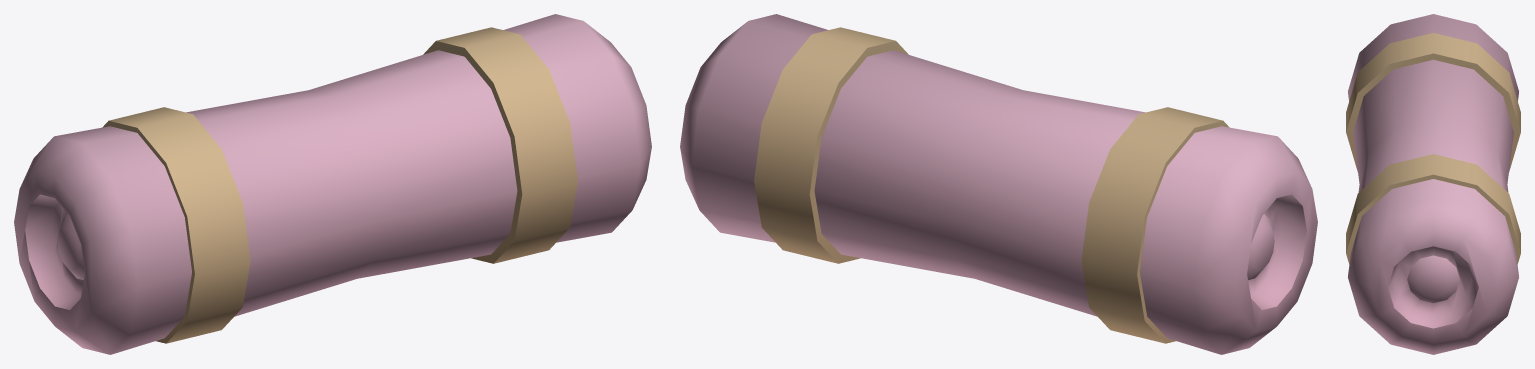
Rendered from yoga-mat (%secret)_0.glb.
3 views of the same model, side by side, from view 1: azimuth 30°, elevation 25°; view 2: azimuth 150°, elevation 25°; view 3: azimuth 270°, elevation 25° (orthographic). The views are drawn at different scales.
Parts seen in each view (by area): view 1: yoga-mat (%secret); view 2: yoga-mat (%secret); view 3: yoga-mat (%secret).
Boxes of the visible parts, x1,y1,x2,y2 form: yoga-mat (%secret): (14, 14, 651, 354); yoga-mat (%secret): (680, 14, 1317, 354); yoga-mat (%secret): (1346, 14, 1520, 354).
Bounding box in the file's own units: 0.5096 × 0.1829 × 0.1829.
